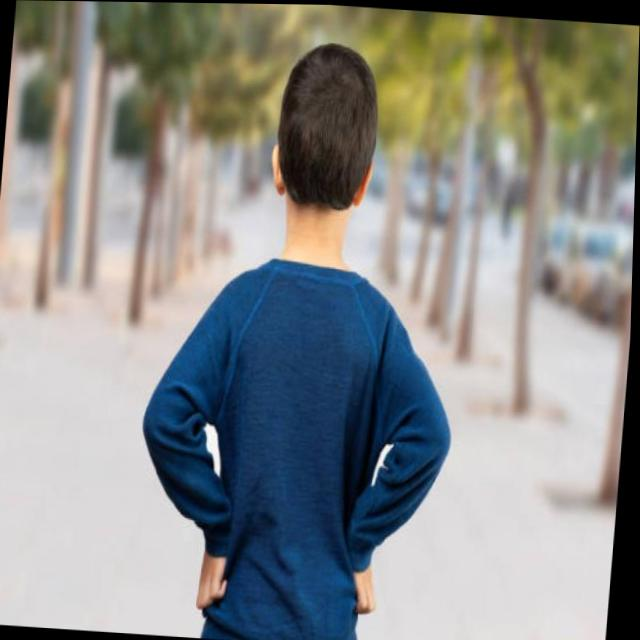no helmet: (263, 40, 392, 254)
